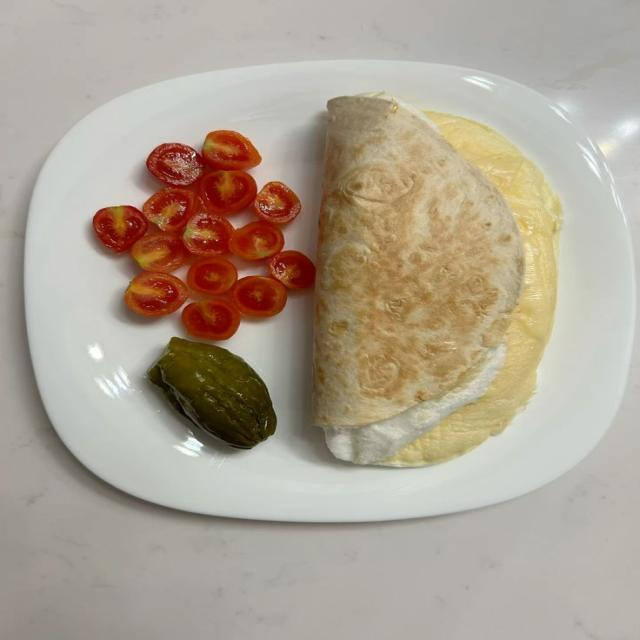omelette: (314, 97, 559, 465)
